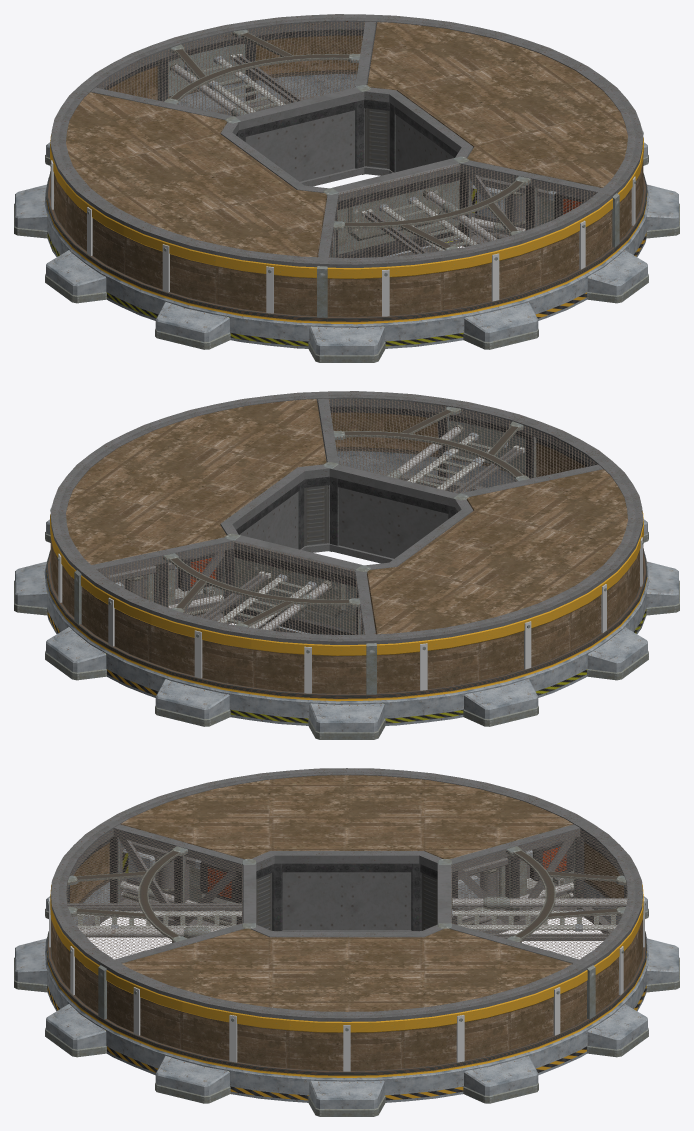
File: Ob_PlatformFullWheel_RC.fbx
The picture shows the model from 3 angles, top to bottom: view 1: azimuth 30°, elevation 25°; view 2: azimuth 150°, elevation 25°; view 3: azimuth 270°, elevation 25°; orthographic projection.
Parts seen in each view (by area): view 1: Ob_PlatformFullWheel_RC; view 2: Ob_PlatformFullWheel_RC; view 3: Ob_PlatformFullWheel_RC.
Boxes of the visible parts, x1,y1,x2,y2 form: Ob_PlatformFullWheel_RC: [14, 14, 679, 362]; Ob_PlatformFullWheel_RC: [14, 391, 679, 739]; Ob_PlatformFullWheel_RC: [14, 768, 679, 1116].
Bounding box in the file's own units: 5850 × 817 × 5850.
